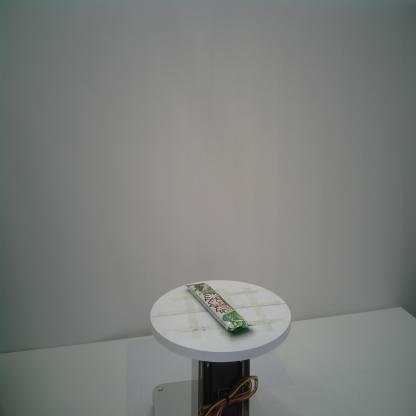Chocolate: (185, 282, 256, 335)
